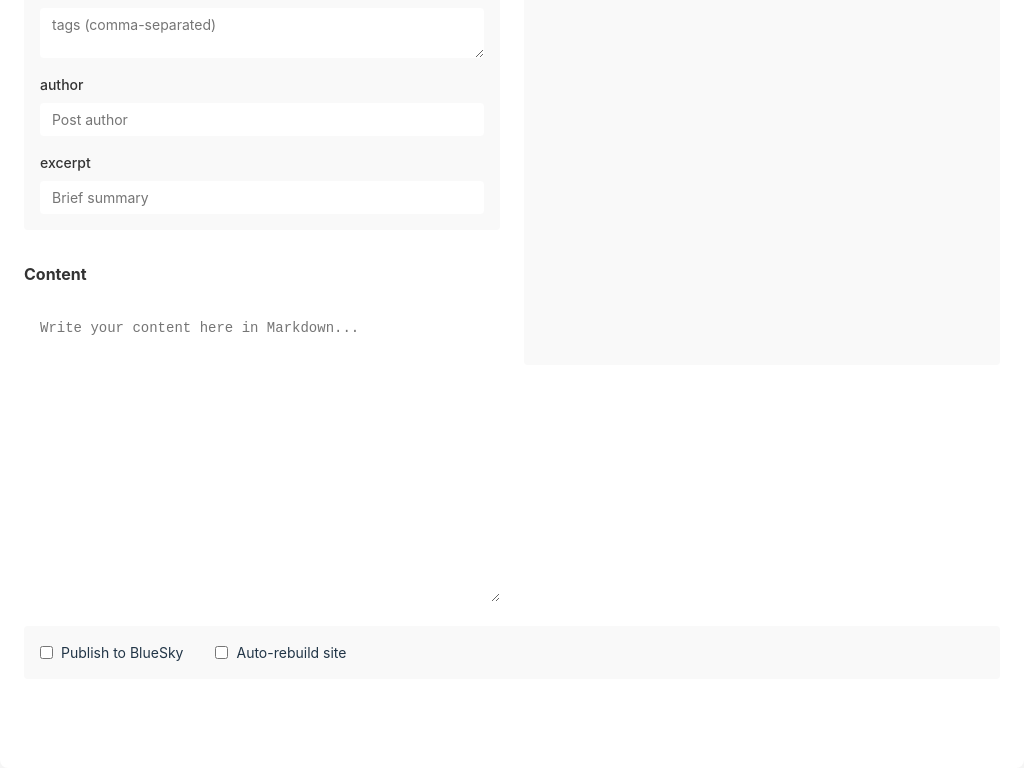
Test: ContentEditor Component › BlueSky Publishing Toggle › shows BlueSky summary when enabled
This screenshot has width=1024, height=768.
(page scrolled)
Click the checkbox labelled "Publish to BlueSky" at point(46, 652), box [40,646,53,659]
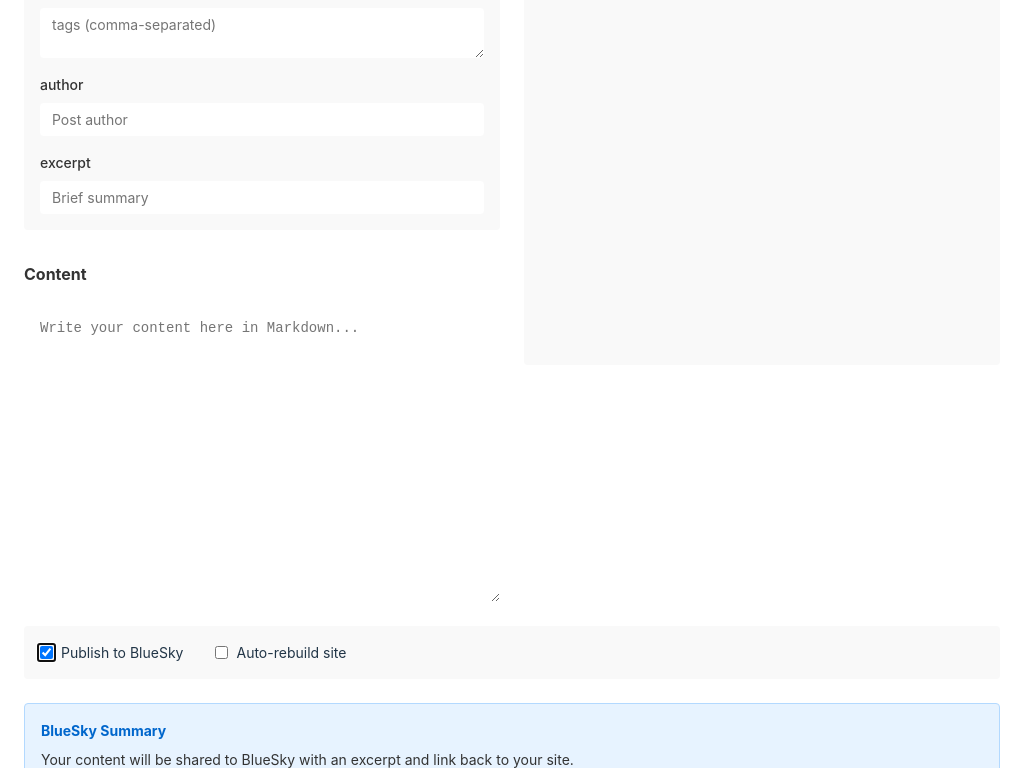
Now the heading "BlueSky Summary" is shown, box [41,722,166,739]
